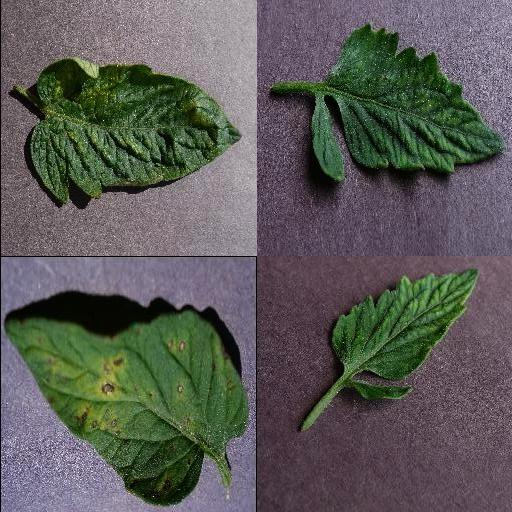Mosaic Virus: (309, 25, 505, 183), (330, 266, 480, 402)
Septoria: (4, 313, 248, 504)
Spider Mites: (29, 57, 243, 205)
